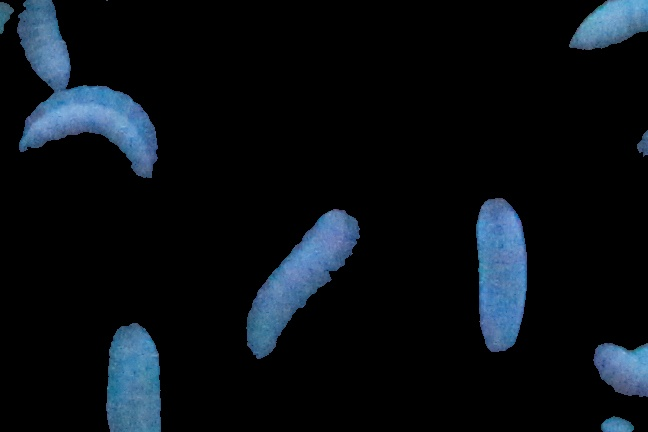larvae: (241, 212, 361, 361), (21, 88, 159, 183), (476, 194, 532, 363), (104, 320, 167, 432), (14, 1, 72, 85)
